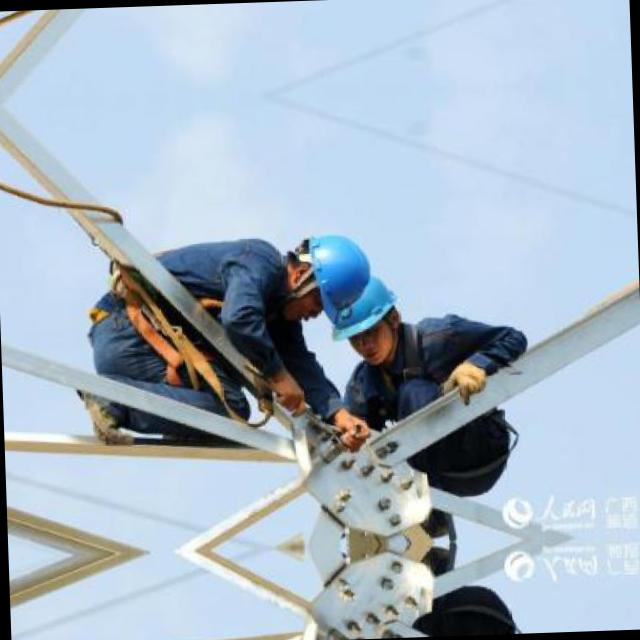helmet: (274, 228, 369, 316), (326, 270, 397, 368)
